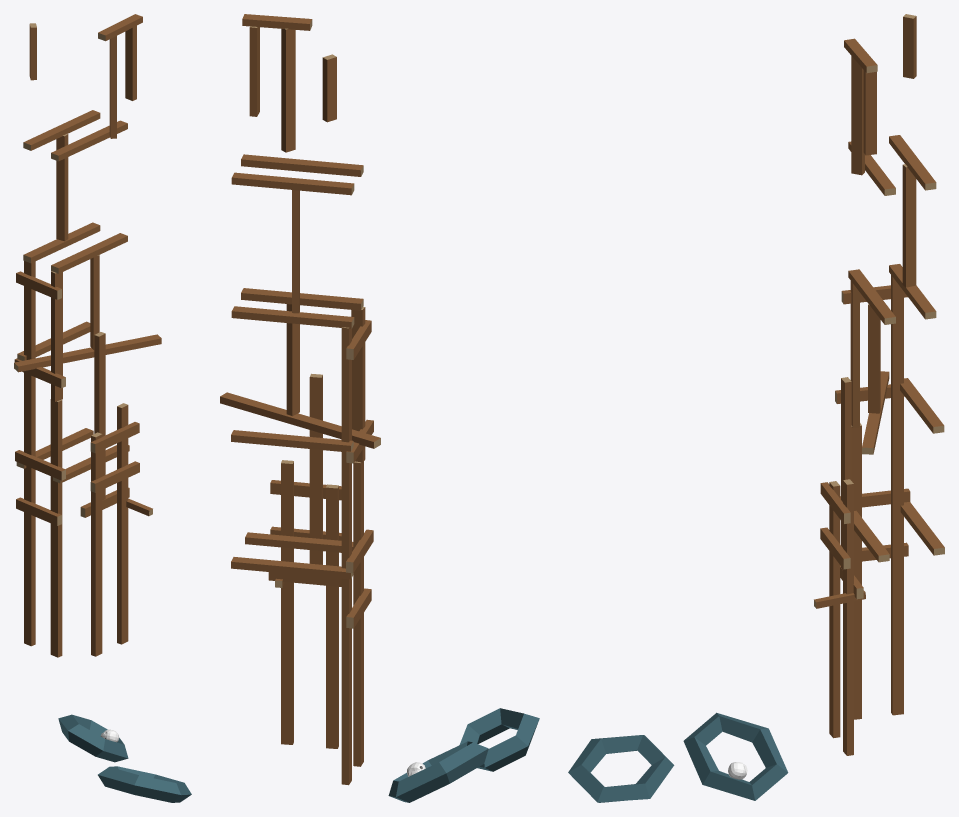
The picture shows the model from 3 angles, left to right: view 1: azimuth 30°, elevation 25°; view 2: azimuth 150°, elevation 25°; view 3: azimuth 270°, elevation 25°; orthographic projection. The views are drawn at different scales.
Visible parts, largest first — view 1: Box289_brown_0, Torus035_metal_0, Torus037_metal_0, Box289_brown2_0; view 2: Box289_brown_0, Torus037_metal_0, Torus035_metal_0, Box289_brown2_0; view 3: Box289_brown_0, Torus037_metal_0, Torus035_metal_0, Box289_brown2_0.
Part boxes in pixels (x1,y1,x2,y2): Box289_brown_0: [14, 14, 161, 657]; Torus035_metal_0: [98, 766, 191, 802]; Torus037_metal_0: [58, 714, 128, 762]; Box289_brown2_0: [14, 23, 152, 525]; Box289_brown_0: [220, 14, 380, 785]; Torus037_metal_0: [388, 741, 488, 802]; Torus035_metal_0: [459, 708, 539, 771]; Box289_brown2_0: [250, 19, 380, 628]; Box289_brown_0: [814, 16, 944, 755]; Torus037_metal_0: [683, 712, 788, 800]; Torus035_metal_0: [568, 735, 674, 802]; Box289_brown2_0: [814, 14, 944, 608].
Size of the model in its own units: 723 by 2959 by 1290.
